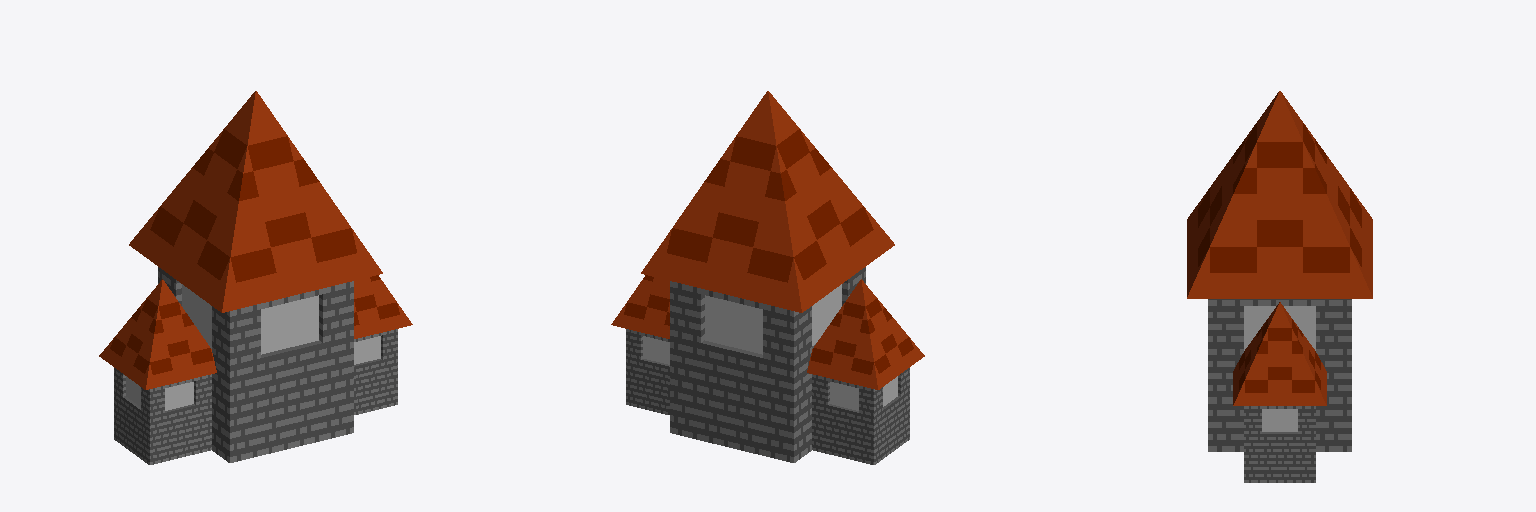
3 views of the same model, side by side, from view 1: azimuth 30°, elevation 25°; view 2: azimuth 150°, elevation 25°; view 3: azimuth 270°, elevation 25° (orthographic).
Visible parts, largest first — view 1: Pyramid, Cube, Cube.2, Pyramid.2, Cube.1, Pyramid.1; view 2: Pyramid, Cube, Cube.2, Pyramid.2, Cube.1, Pyramid.1; view 3: Pyramid, Cube, Pyramid.1, Cube.1.
Part boxes in pixels (left/top/right/bottom): Pyramid: left=129, top=91, right=382, bottom=312; Cube: left=158, top=267, right=353, bottom=462; Cube.2: left=114, top=368, right=211, bottom=464; Pyramid.2: left=99, top=279, right=216, bottom=389; Cube.1: left=354, top=329, right=397, bottom=414; Pyramid.1: left=354, top=275, right=412, bottom=338; Pyramid: left=641, top=91, right=894, bottom=312; Cube: left=670, top=267, right=865, bottom=462; Cube.2: left=812, top=368, right=909, bottom=464; Pyramid.2: left=807, top=279, right=924, bottom=389; Cube.1: left=626, top=329, right=669, bottom=414; Pyramid.1: left=611, top=275, right=669, bottom=338; Pyramid: left=1187, top=91, right=1372, bottom=298; Cube: left=1208, top=299, right=1351, bottom=451; Pyramid.1: left=1233, top=302, right=1326, bottom=405; Cube.1: left=1244, top=406, right=1315, bottom=482.
Size of the model in its own units: 21.5 by 25.5 by 13.
3 materials, 2 textured.